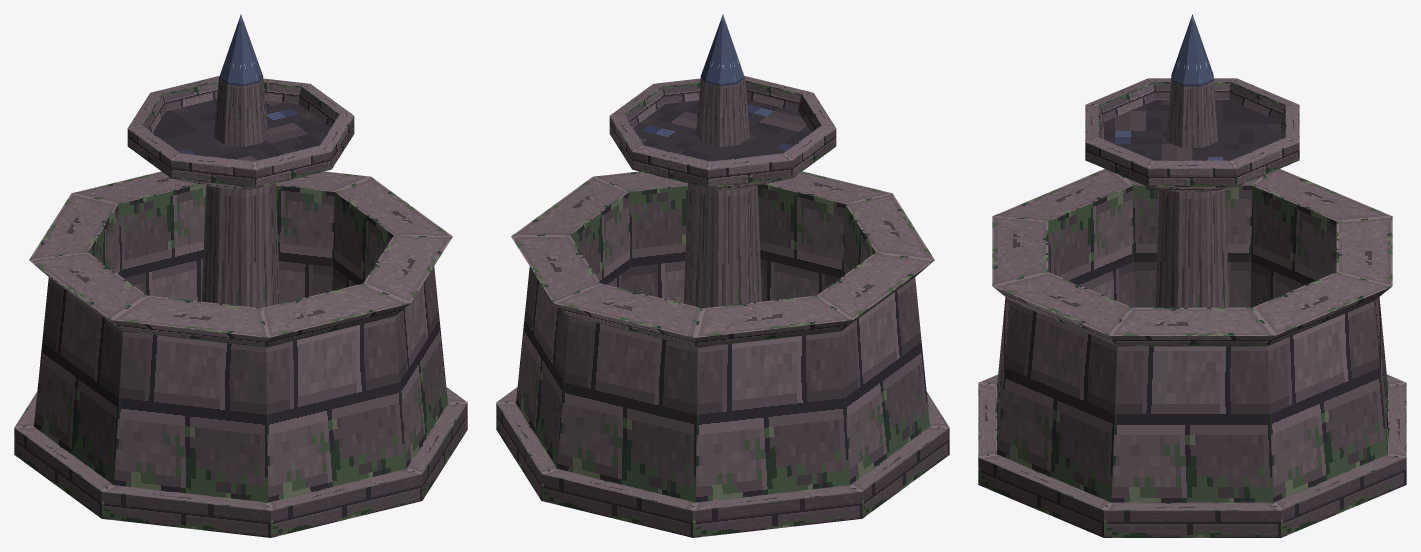
The model's file is brunnen_a1_verbraucht.glb.
3 renders of one model, left to right at view 1: azimuth 30°, elevation 25°; view 2: azimuth 150°, elevation 25°; view 3: azimuth 270°, elevation 25°, orthographic.
Parts seen in each view (by area): view 1: body, column; view 2: body, column; view 3: body, column.
Part boxes in pixels (left/top/right/bottom): body: left=14, top=171, right=467, bottom=537; column: left=127, top=14, right=354, bottom=308; body: left=496, top=171, right=949, bottom=537; column: left=609, top=14, right=836, bottom=308; body: left=978, top=169, right=1406, bottom=537; column: left=1085, top=14, right=1299, bottom=307.
Bounding box in the file's own units: 1.7 × 1.9 × 1.7.
2 materials, 2 textured.
